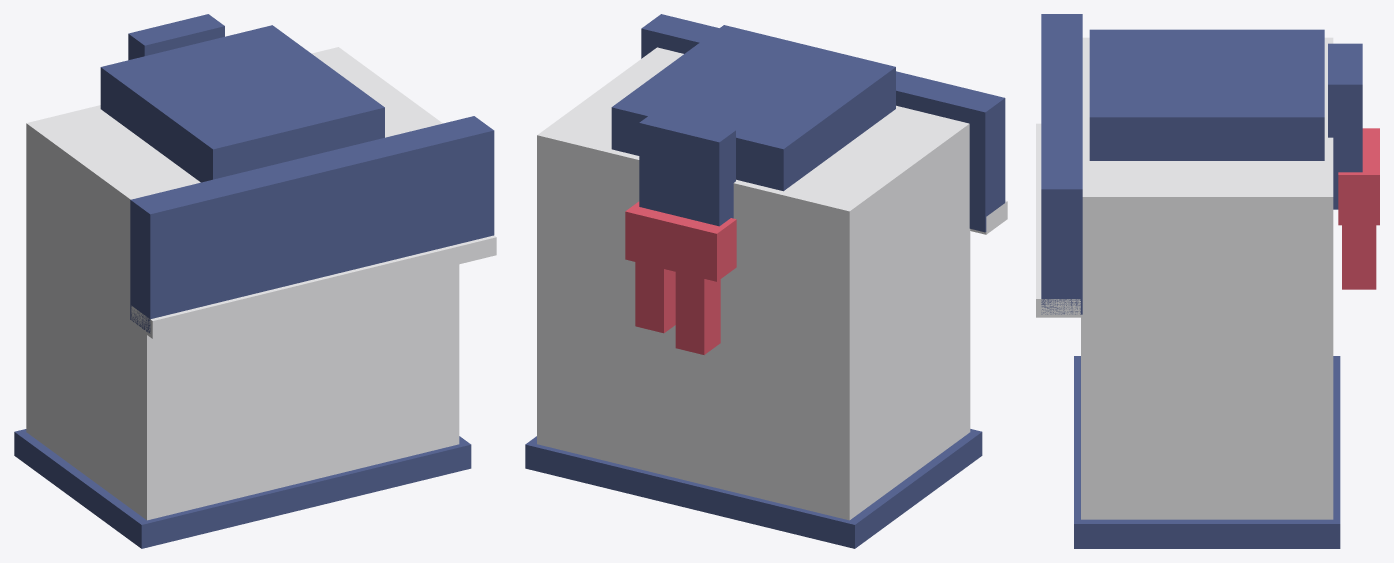
The model's file is sailor_tronco.glb.
3 renders of one model, left to right at view 1: azimuth 30°, elevation 25°; view 2: azimuth 150°, elevation 25°; view 3: azimuth 270°, elevation 25°, orthographic. The views are drawn at different scales.
Visible parts, largest first — view 1: sailor_tronco; view 2: sailor_tronco; view 3: sailor_tronco.
Boxes of the visible parts, x1,y1,x2,y2 form: sailor_tronco: [14, 14, 496, 548]; sailor_tronco: [525, 14, 1007, 548]; sailor_tronco: [1036, 14, 1379, 548].
Bounding box in the file's own units: 0.6 × 0.64 × 0.4975.
